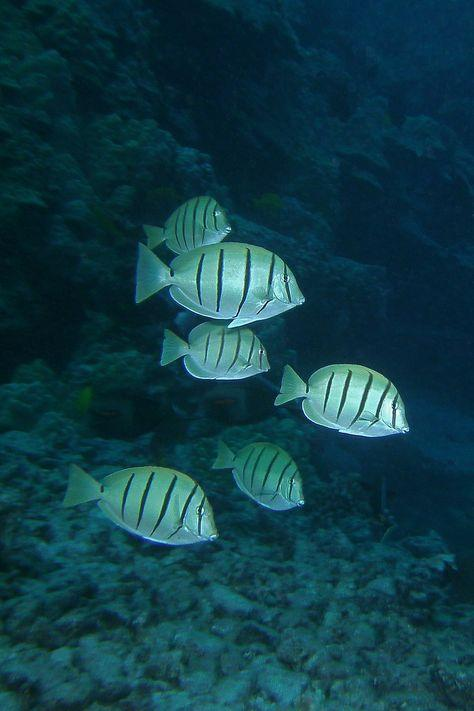fish: (133, 239, 305, 328), (60, 462, 219, 546), (273, 362, 410, 438), (210, 438, 305, 512), (159, 320, 271, 381), (141, 194, 232, 255)
